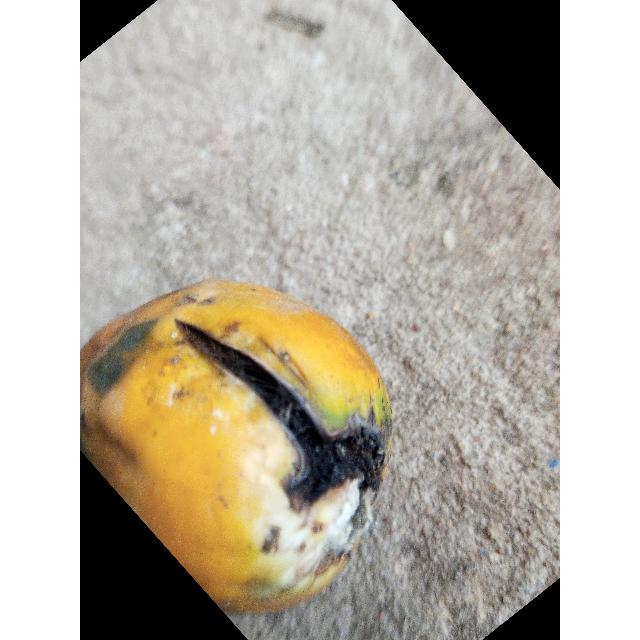damaged: (80, 280, 393, 620)
